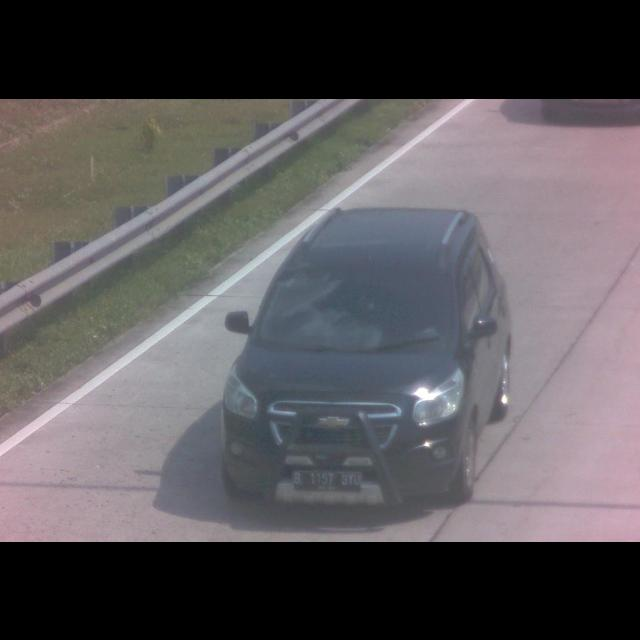plate: (290, 469, 366, 495)
